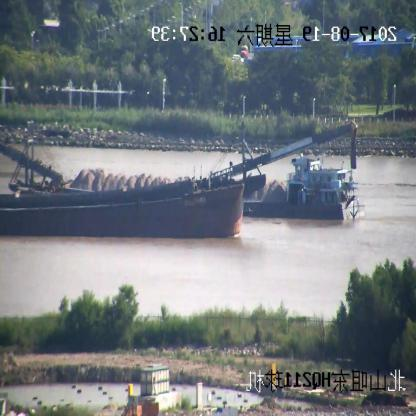Bulk Carrier: (1, 119, 359, 240)
